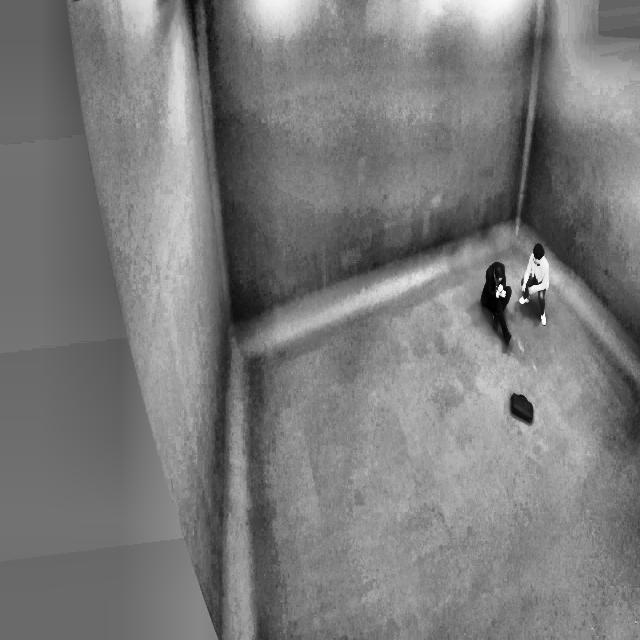assult: (478, 234, 553, 338), (483, 249, 513, 356), (524, 231, 554, 326)
